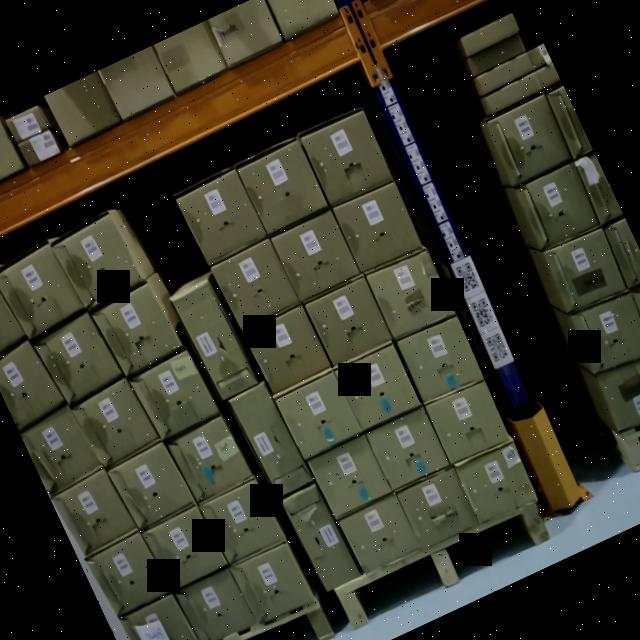box: (170, 282, 258, 402), (229, 385, 315, 503), (54, 214, 150, 314), (235, 137, 331, 236), (30, 308, 124, 406), (367, 245, 460, 344), (178, 172, 270, 268), (300, 104, 392, 200), (0, 243, 88, 340), (281, 486, 360, 594), (91, 287, 181, 380), (269, 212, 361, 302), (130, 349, 219, 439), (140, 506, 227, 598), (304, 277, 392, 367), (199, 478, 287, 568), (336, 185, 424, 274), (274, 372, 362, 461), (71, 377, 159, 466), (334, 342, 422, 430), (165, 417, 250, 508), (426, 377, 514, 464), (452, 440, 540, 526), (246, 308, 332, 394), (338, 493, 424, 579), (214, 240, 298, 328), (106, 443, 192, 527), (545, 227, 628, 313), (367, 406, 452, 489), (400, 317, 484, 400), (492, 102, 573, 186), (398, 467, 480, 549), (522, 165, 602, 248), (232, 544, 316, 623), (89, 536, 170, 617), (54, 475, 133, 556), (310, 436, 390, 515), (573, 289, 640, 375), (175, 570, 255, 640), (593, 349, 640, 440), (482, 66, 562, 116), (474, 46, 552, 94), (120, 596, 200, 640), (461, 12, 523, 56), (468, 34, 530, 76)
